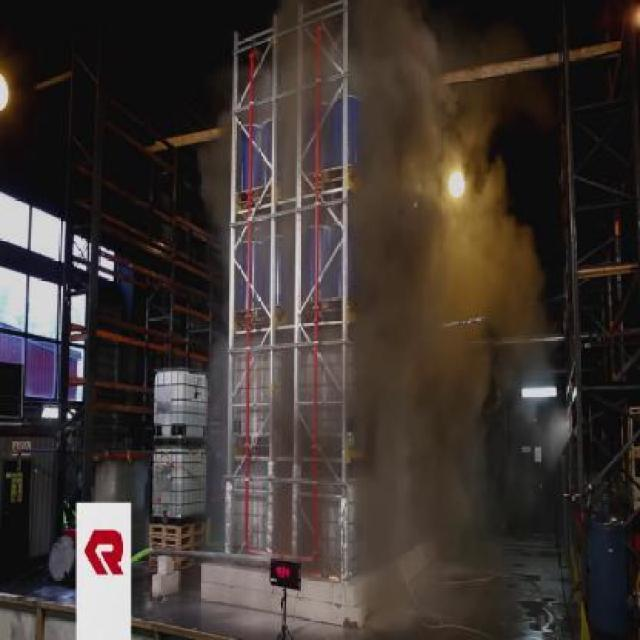fire: (350, 0, 556, 548)
